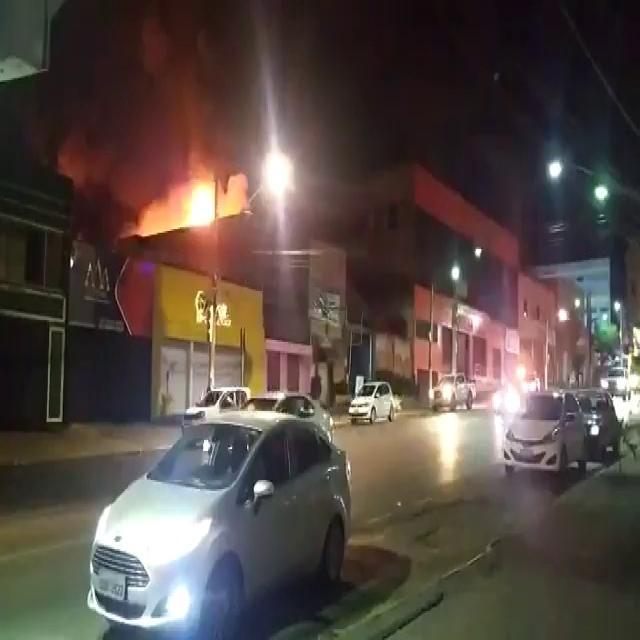Fire: (130, 168, 248, 228)
Smoke: (62, 12, 226, 161)
